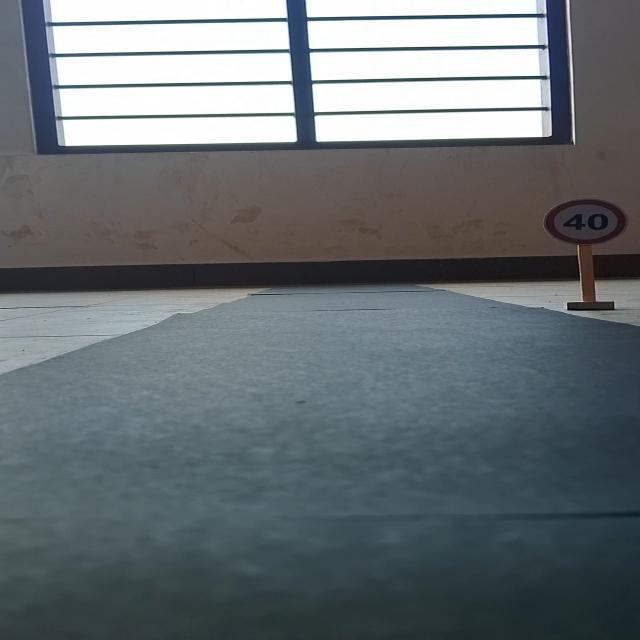Speed40: (538, 195, 629, 248)
